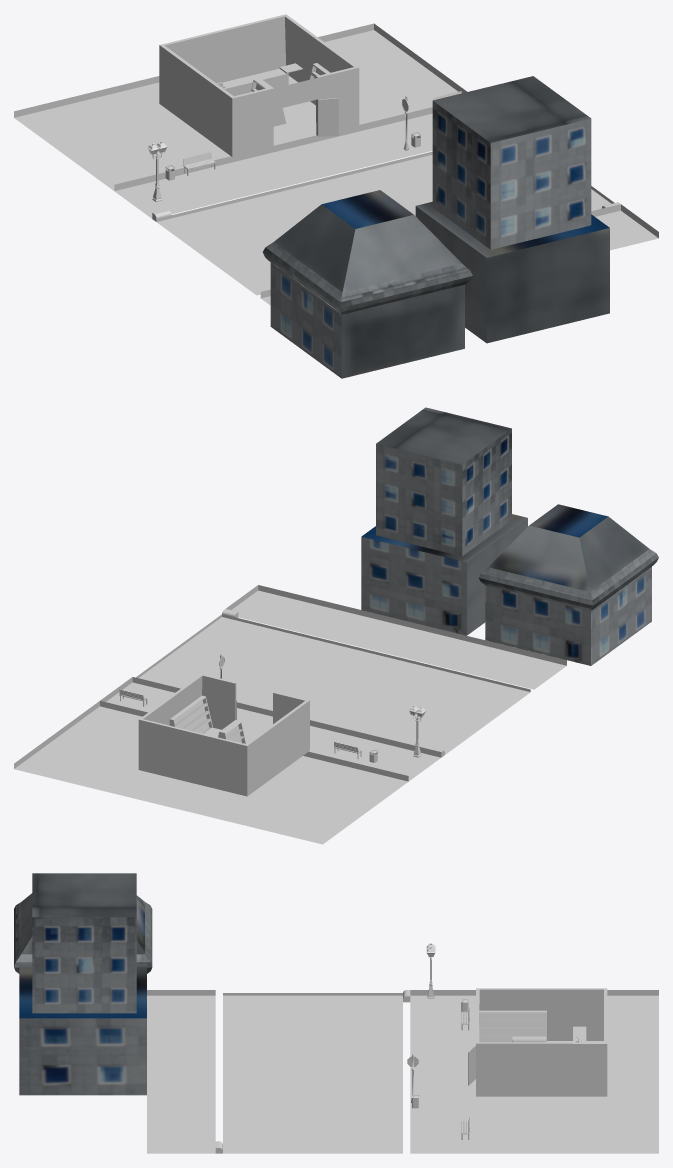
Rendered from store1.glb.
3 views of the same model, one above another, from view 1: azimuth 30°, elevation 25°; view 2: azimuth 150°, elevation 25°; view 3: azimuth 270°, elevation 25° (orthographic). The views are drawn at different scales.
Parts seen in each view (by area): view 1: Cube.005, Cube.001, Plane.001, Building, Cube, Plane.002, Plane, Plane.003, Register, Door; view 2: Plane.002, Cube.005, Plane.001, Cube.001, Building, Plane.003, Cube, Plane, Stand (Side); view 3: Plane.002, Plane.001, Cube.001, Building, Cube, Plane.003, Plane, Cube.005, Stand (Side).001.
Boxes of the visible parts, box(x1,y1,x2,y2) form: Cube.005: box(263, 190, 472, 378); Cube.001: box(432, 76, 591, 249); Plane.001: box(14, 23, 467, 190); Building: box(159, 14, 359, 157); Cube: box(415, 201, 609, 343); Plane.002: box(156, 151, 614, 295); Plane: box(114, 107, 432, 218); Plane.003: box(260, 204, 658, 305); Register: box(222, 63, 302, 96); Door: box(318, 98, 338, 136); Plane.002: box(136, 614, 530, 754); Cube.005: box(479, 504, 658, 665); Plane.001: box(14, 701, 408, 844); Cube.001: box(376, 407, 511, 556); Building: box(138, 674, 309, 796); Plane.003: box(226, 585, 566, 689); Cube: box(361, 514, 527, 635); Plane: box(100, 677, 441, 781); Stand (Side): box(169, 695, 212, 733); Plane.002: box(223, 993, 402, 1153); Plane.001: box(479, 990, 658, 1153); Cube.001: box(32, 873, 136, 1013); Building: box(476, 988, 607, 1096); Cube: box(19, 964, 146, 1095); Plane.003: box(147, 990, 215, 1153); Plane: box(410, 990, 478, 1153); Cube.005: box(14, 893, 152, 973); Stand (Side).001: box(479, 1010, 546, 1042).
Bounding box in the file's own units: 62.12 × 30 × 98.17.
3 materials, 2 textured.
